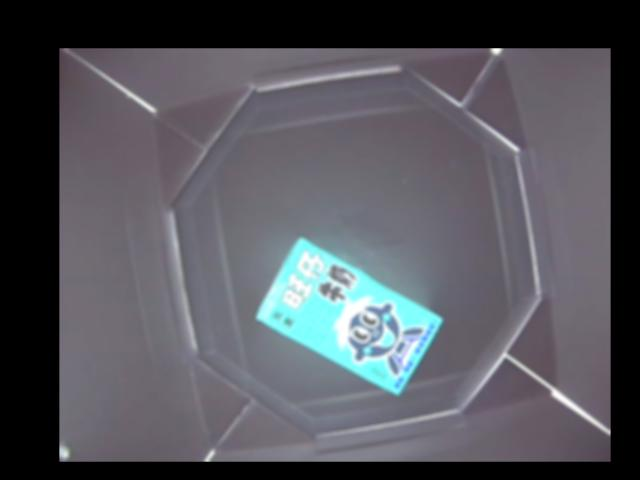Bottle: (254, 235, 441, 392)
